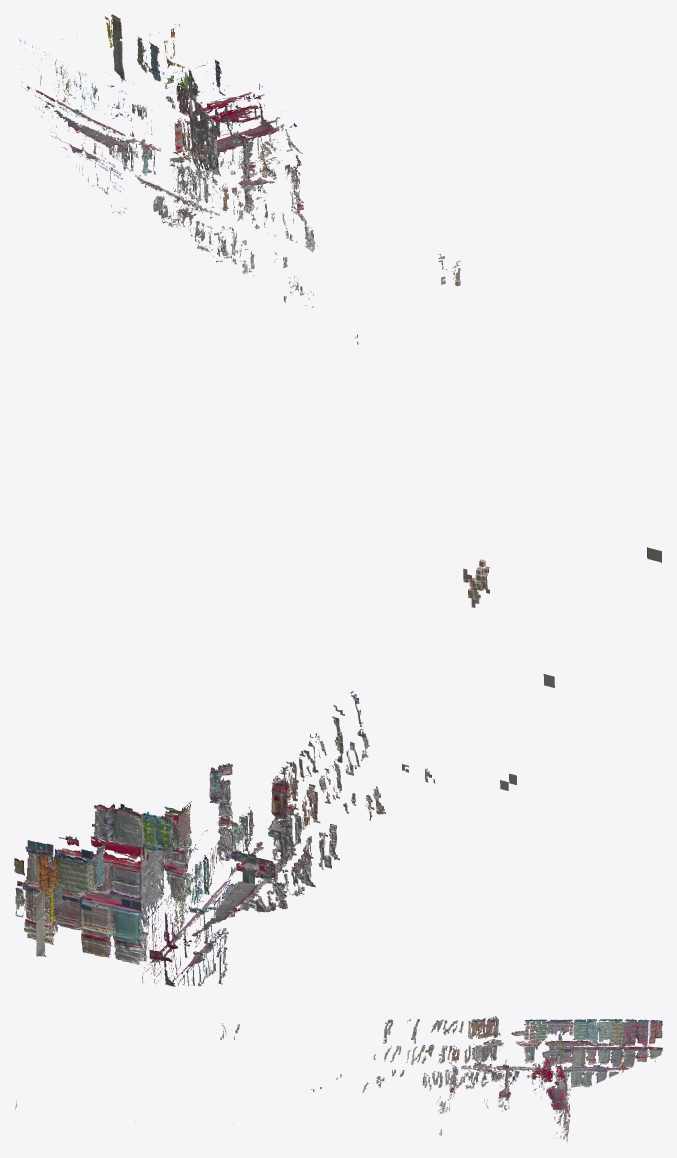
File: surfaces-1.glb
The picture shows the model from 3 angles, top to bottom: view 1: azimuth 30°, elevation 25°; view 2: azimuth 150°, elevation 25°; view 3: azimuth 270°, elevation 25°; orthographic projection. The views are drawn at different scales.
Visible parts, largest first — view 1: obj-1-1797, obj-1-560; view 2: obj-1-1386, obj-1-1797, obj-1-560, obj-1-1618, obj-1-1753, obj-1-559, obj-1-599, obj-1-431, obj-1-448, obj-1-721, obj-1-1367, obj-1-528 (+1 smaller); view 3: obj-1-1369, obj-1-560, obj-1-1562, obj-1-1771, obj-1-431, obj-1-537, obj-1-1367, obj-1-1438, obj-1-1753, obj-1-1456, obj-1-428, obj-1-503 (+7 smaller).
Boxes of the visible parts, box(x1,y1,x2,y2) form: obj-1-1797: box(188, 69, 249, 180); obj-1-560: box(36, 90, 121, 161); obj-1-1386: box(93, 804, 174, 854); obj-1-1797: box(112, 811, 164, 927); obj-1-560: box(160, 882, 258, 973); obj-1-1618: box(74, 897, 145, 963); obj-1-1753: box(332, 559, 489, 762); obj-1-559: box(81, 902, 113, 938); obj-1-599: box(53, 855, 94, 896); obj-1-431: box(17, 880, 142, 912); obj-1-448: box(111, 852, 160, 897); obj-1-721: box(81, 839, 155, 895); obj-1-1367: box(183, 816, 247, 904); obj-1-528: box(53, 896, 81, 929); obj-1-1369: box(607, 1019, 662, 1070); obj-1-560: box(547, 1038, 648, 1070); obj-1-1562: box(468, 1016, 498, 1038); obj-1-1771: box(564, 1050, 629, 1072); obj-1-431: box(546, 1085, 570, 1116); obj-1-537: box(421, 1069, 457, 1090); obj-1-1367: box(535, 1021, 608, 1040); obj-1-1438: box(648, 1020, 662, 1058); obj-1-1753: box(220, 1019, 419, 1043); obj-1-1456: box(454, 1070, 495, 1090); obj-1-428: box(461, 1062, 543, 1070); obj-1-503: box(570, 1049, 585, 1067).
Bounding box in the file's own units: 12.12 × 10.64 × 54.28.
